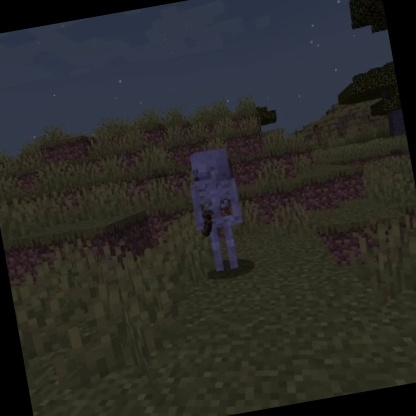skeleton: (177, 142, 256, 279)
